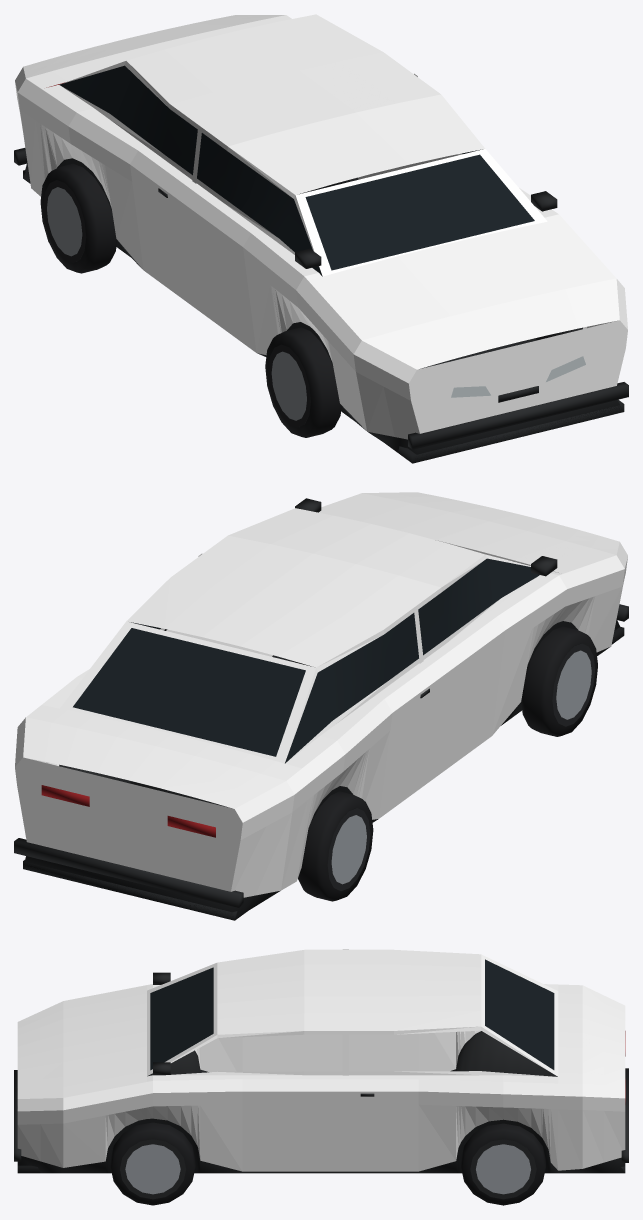
File: saulieu_ribeira.glb
The picture shows the model from 3 angles, top to bottom: view 1: azimuth 30°, elevation 25°; view 2: azimuth 150°, elevation 25°; view 3: azimuth 270°, elevation 25°; orthographic projection. The views are drawn at different scales.
Parts seen in each view (by area): view 1: Body_Paint, Body_Details, Mount_FrontLeft_Wheel_Details, Mount_RearLeft_Wheel_Details; view 2: Body_Paint, Body_Details, Mount_FrontLeft_Wheel_Details, Mount_RearLeft_Wheel_Details; view 3: Body_Paint, Body_Details, Mount_FrontRight_Wheel_Details, Mount_RearRight_Wheel_Details.
Part boxes in pixels (box(x1,y1,x2,y2)): Body_Paint: box(15, 14, 627, 439); Body_Details: box(14, 65, 628, 463); Mount_FrontLeft_Wheel_Details: box(265, 327, 341, 437); Mount_RearLeft_Wheel_Details: box(40, 163, 117, 273); Body_Paint: box(15, 492, 627, 897); Body_Details: box(14, 498, 628, 920); Mount_FrontLeft_Wheel_Details: box(521, 626, 597, 736); Mount_RearLeft_Wheel_Details: box(298, 791, 373, 901); Body_Paint: box(17, 949, 625, 1171); Body_Details: box(14, 959, 628, 1173); Mount_FrontRight_Wheel_Details: box(110, 1122, 195, 1205); Mount_RearRight_Wheel_Details: box(461, 1123, 545, 1205).
Bounding box in the file's own units: 1.89 × 1.35 × 4.55.
2 materials, 1 textured.
